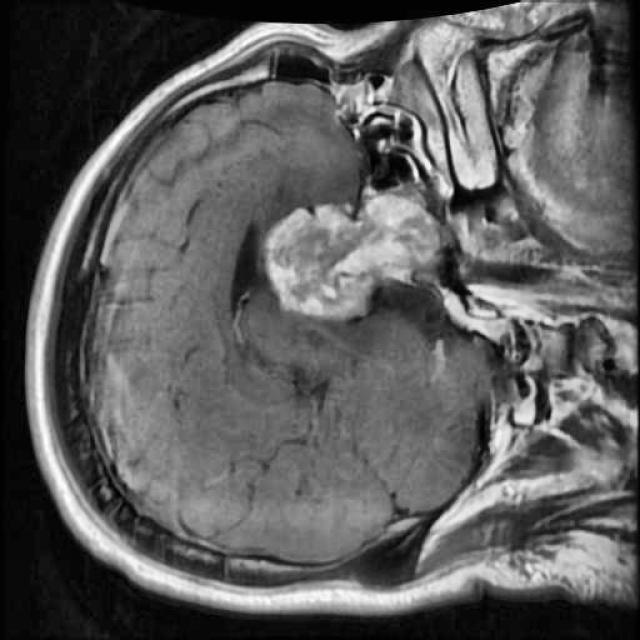Tumor: (258, 176, 448, 326)
